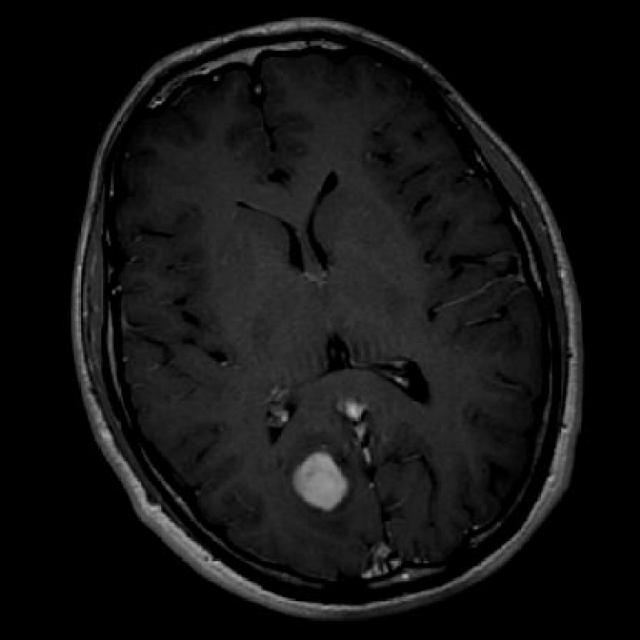Brain-Tumor: (287, 442, 361, 517)
